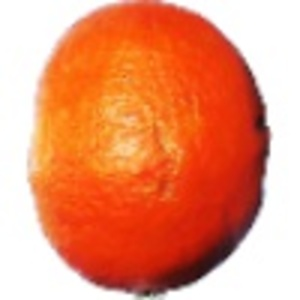tangerina: (26, 1, 274, 300)
